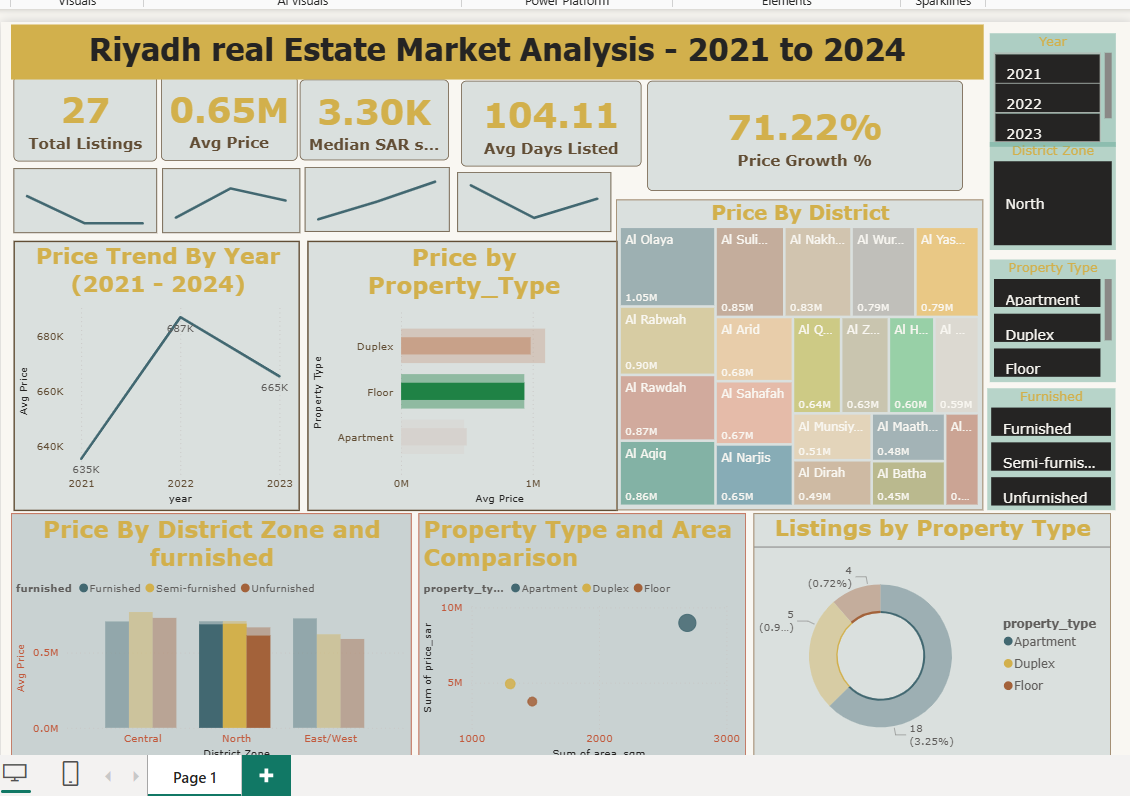

What the dashboard file says about the page in this screenshot:
{"tool":"powerbi","page":{"name":"Page 1","canvas":[1300,900],"ordinal":0},"visuals":[{"type":"card","fields":{"Values":["riyadh_realestate_dataset.Total Listings"]},"box":[14.5,61.9,164.7,98.8],"z":0},{"type":"card","fields":{"Values":["riyadh_realestate_dataset.Avg Price"]},"box":[183.3,61.9,156.4,97.4],"z":1000},{"type":"card","fields":{"Values":["riyadh_realestate_dataset.Median SAR sqm"]},"box":[343.5,65.9,171,93],"z":2000},{"type":"card","fields":{"Values":["riyadh_realestate_dataset.Price Growth %"]},"box":[742.5,66.9,362,126],"z":3000},{"type":"card","fields":{"Values":["riyadh_realestate_dataset.Avg Days Listed"]},"box":[528.5,66.9,207,98],"z":4000},{"type":"lineChart","fields":{"Category":["riyadh_realestate_dataset.year"],"Y":["riyadh_realestate_dataset.Total Listings"]},"box":[15,168,164.7,74.1],"z":5000},{"type":"lineChart","fields":{"Category":["riyadh_realestate_dataset.year"],"Y":["riyadh_realestate_dataset.Avg Price"]},"box":[185.5,167.9,158,74],"z":6000},{"type":"lineChart","fields":{"Category":["riyadh_realestate_dataset.year"],"Y":["riyadh_realestate_dataset.Median SAR sqm"]},"box":[348.5,166.9,166,74],"z":7000},{"type":"lineChart","fields":{"Category":["riyadh_realestate_dataset.year"],"Y":["riyadh_realestate_dataset.Avg Days Listed"]},"box":[523.5,171.9,177,69],"z":8000},{"type":"lineChart","title":"Price Trend By Year (2021 - 2024)","fields":{"Category":["riyadh_realestate_dataset.year"],"Y":["riyadh_realestate_dataset.Avg Price"]},"box":[15,251,329,310],"z":9000},{"type":"barChart","title":"Price by Property_Type","fields":{"Category":["riyadh_realestate_dataset.property_type"],"Y":["riyadh_realestate_dataset.Avg Price"]},"box":[351,251,357,310],"z":10000},{"type":"treemap","title":"Price By District","fields":{"Group":["riyadh_realestate_dataset.district"],"Values":["riyadh_realestate_dataset.Avg Price"]},"box":[706.7,203.3,421.7,356.7],"z":11000},{"type":"donutChart","title":"Listings by Property Type","fields":{"Category":["riyadh_realestate_dataset.property_type"],"Y":["riyadh_realestate_dataset.Total Listings"]},"box":[863.7,564.2,410.3,288.2],"z":12000},{"type":"clusteredColumnChart","title":"Price By District Zone and furnished","fields":{"Category":["riyadh_realestate_dataset.district_zone"],"Y":["riyadh_realestate_dataset.Avg Price"],"Series":["riyadh_realestate_dataset.furnished"]},"box":[11.6,564.2,459.7,288.2],"z":13000},{"type":"scatterChart","title":"Property Type and Area Comparison","fields":{"X":["Sum(riyadh_realestate_dataset.area_sqm)"],"Y":["Sum(riyadh_realestate_dataset.price_sar)"],"Series":["riyadh_realestate_dataset.property_type"],"Category":["riyadh_realestate_dataset.property_type"],"Size":["CountNonNull(riyadh_realestate_dataset.listing_id)"]},"box":[479.5,563.8,376,288.2],"z":14000},{"type":"advancedSlicerVisual","title":"Furnished","fields":{"Values":["riyadh_realestate_dataset.furnished"]},"box":[1133,420,147,140],"z":15000},{"type":"advancedSlicerVisual","title":"District Zone","fields":{"Values":["riyadh_realestate_dataset.district_zone"]},"box":[1135,138,145,124],"z":16000},{"type":"advancedSlicerVisual","title":"Property Type","fields":{"Values":["riyadh_realestate_dataset.property_type"]},"box":[1135,272,145,141],"z":17000},{"type":"advancedSlicerVisual","title":"Year","fields":{"Values":["riyadh_realestate_dataset.year"]},"box":[1135.5,12.7,145,130],"z":18000},{"type":"textbox","box":[11.7,3.3,1116.7,63.3],"z":18001}]}

Visuals, with their boxes in screenshot pixels (x1, y1, x2, y2):
card - riyadh_realestate_dataset.Total Listings: pyautogui.locateOnScreen(21, 74, 162, 158)
card - riyadh_realestate_dataset.Avg Price: pyautogui.locateOnScreen(166, 74, 300, 157)
card - riyadh_realestate_dataset.Median SAR sqm: pyautogui.locateOnScreen(303, 77, 450, 157)
card - riyadh_realestate_dataset.Price Growth %: pyautogui.locateOnScreen(645, 78, 956, 186)
card - riyadh_realestate_dataset.Avg Days Listed: pyautogui.locateOnScreen(462, 78, 639, 162)
lineChart - riyadh_realestate_dataset.year x riyadh_realestate_dataset.Total Listings: pyautogui.locateOnScreen(22, 165, 163, 228)
lineChart - riyadh_realestate_dataset.year x riyadh_realestate_dataset.Avg Price: pyautogui.locateOnScreen(168, 165, 303, 228)
lineChart - riyadh_realestate_dataset.year x riyadh_realestate_dataset.Median SAR sqm: pyautogui.locateOnScreen(308, 164, 450, 227)
lineChart - riyadh_realestate_dataset.year x riyadh_realestate_dataset.Avg Days Listed: pyautogui.locateOnScreen(458, 168, 609, 227)
"Price Trend By Year (2021 - 2024)" lineChart: pyautogui.locateOnScreen(22, 236, 304, 501)
"Price by Property_Type" barChart: pyautogui.locateOnScreen(310, 236, 616, 501)
"Price By District" treemap: pyautogui.locateOnScreen(615, 195, 976, 501)
"Listings by Property Type" donutChart: pyautogui.locateOnScreen(749, 504, 1101, 751)
"Price By District Zone and furnished" clusteredColumnChart: pyautogui.locateOnScreen(19, 504, 413, 751)
"Property Type and Area Comparison" scatterChart: pyautogui.locateOnScreen(420, 504, 742, 751)
"Furnished" advancedSlicerVisual: pyautogui.locateOnScreen(980, 381, 1106, 501)
"District Zone" advancedSlicerVisual: pyautogui.locateOnScreen(982, 139, 1106, 245)
"Property Type" advancedSlicerVisual: pyautogui.locateOnScreen(982, 254, 1106, 375)
"Year" advancedSlicerVisual: pyautogui.locateOnScreen(982, 31, 1106, 143)
textbox: pyautogui.locateOnScreen(19, 23, 976, 78)
